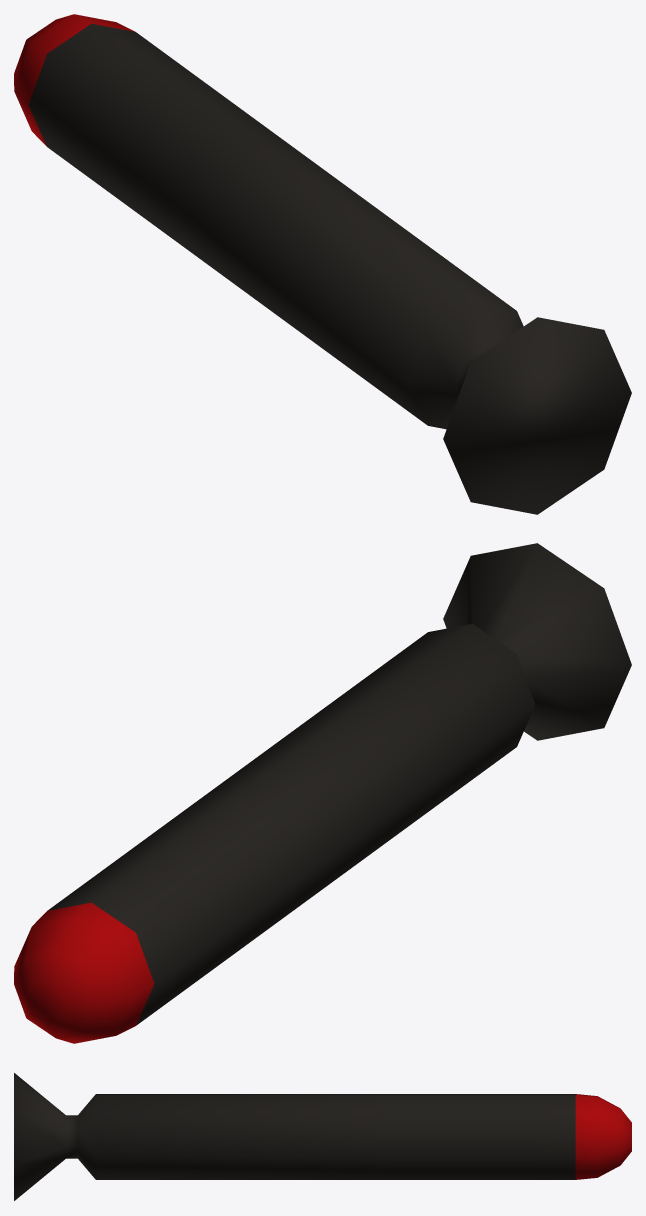
File: Missile.obj
The picture shows the model from 3 angles, top to bottom: view 1: azimuth 30°, elevation 25°; view 2: azimuth 150°, elevation 25°; view 3: azimuth 270°, elevation 25°; orthographic projection. The views are drawn at different scales.
Visible parts, largest first — view 1: Cylinder.001; view 2: Cylinder.001; view 3: Cylinder.001.
Part boxes in pixels (x1=…): Cylinder.001: x1=14, y1=14, x2=631, y2=514; Cylinder.001: x1=14, y1=543, x2=631, y2=1043; Cylinder.001: x1=14, y1=1073, x2=631, y2=1200.
Bounding box in the file's own units: 0.75 × 0.75 × 3.38.
